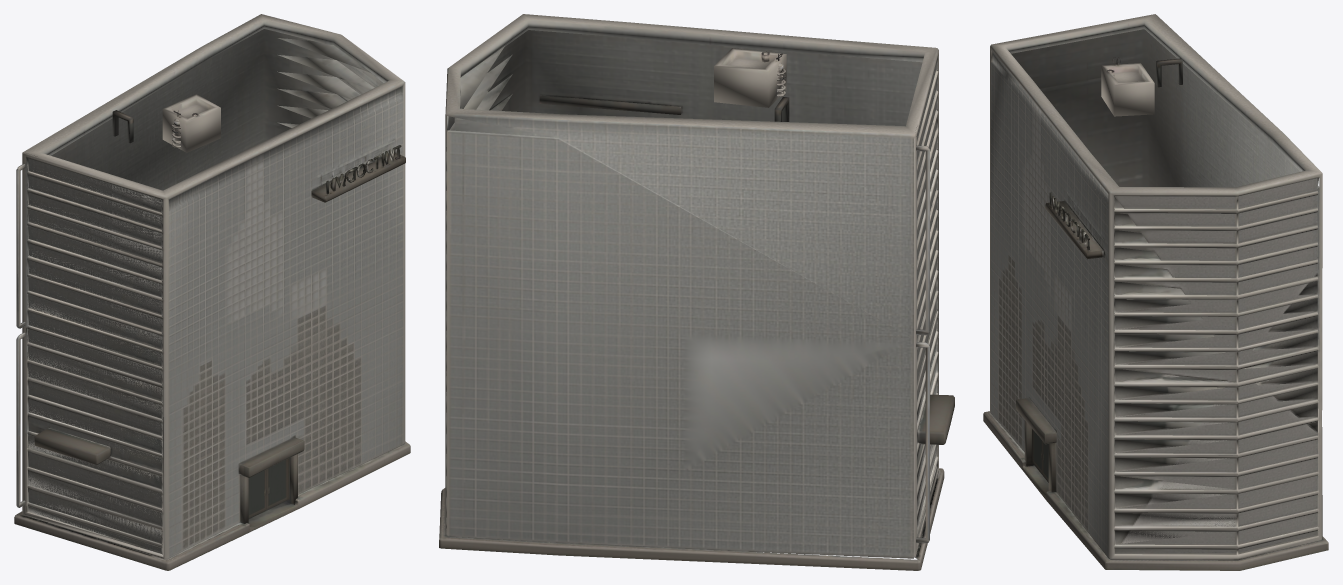
The model's file is modern_office_building_3d_model.fbx.
3 views of the same model, side by side, from view 1: azimuth 30°, elevation 25°; view 2: azimuth 150°, elevation 25°; view 3: azimuth 270°, elevation 25° (orthographic). The views are drawn at different scales.
Parts seen in each view (by area): view 1: tripo_node_55ee71a8; view 2: tripo_node_55ee71a8; view 3: tripo_node_55ee71a8.
Boxes of the visible parts, x1,y1,x2,y2 form: tripo_node_55ee71a8: [14, 14, 410, 570]; tripo_node_55ee71a8: [439, 14, 954, 570]; tripo_node_55ee71a8: [983, 14, 1328, 570].
Size of the model in its own units: 0.9941 by 0.998 by 0.7832.
